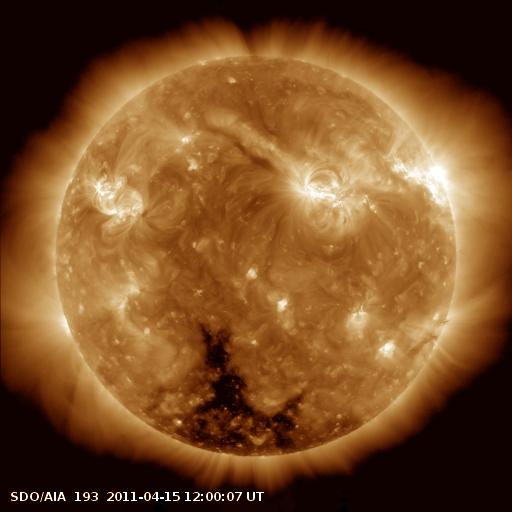coronal_hole: (169, 319, 329, 456)
